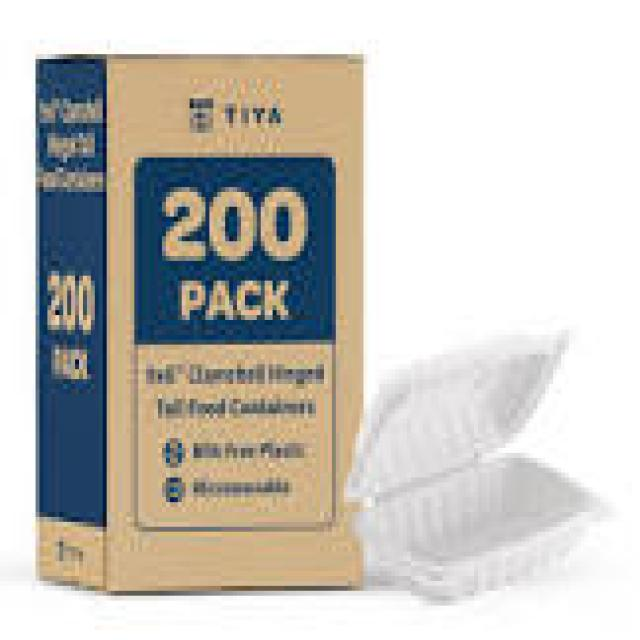Clamshell: (336, 314, 618, 616)
